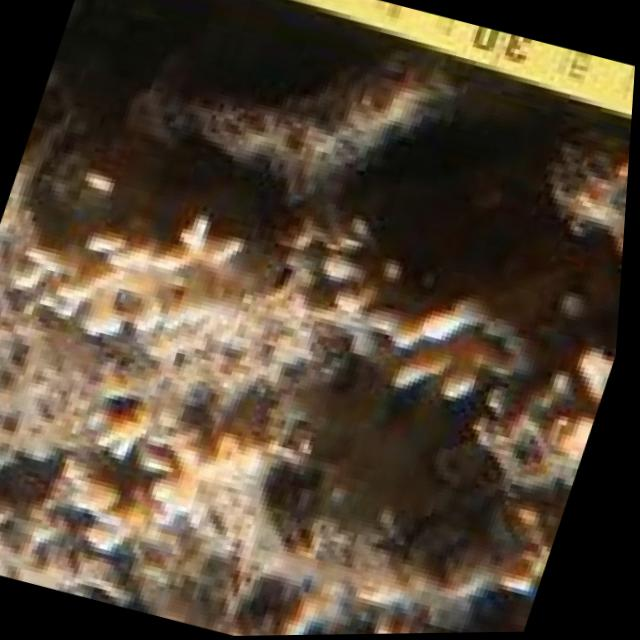Bleached Coral: (244, 194, 543, 429), (13, 126, 254, 356)
